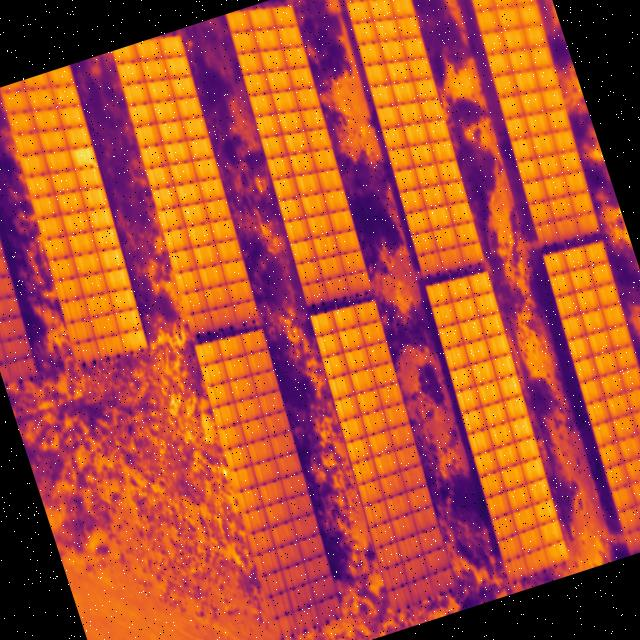Hotspot: (72, 142, 101, 172)
